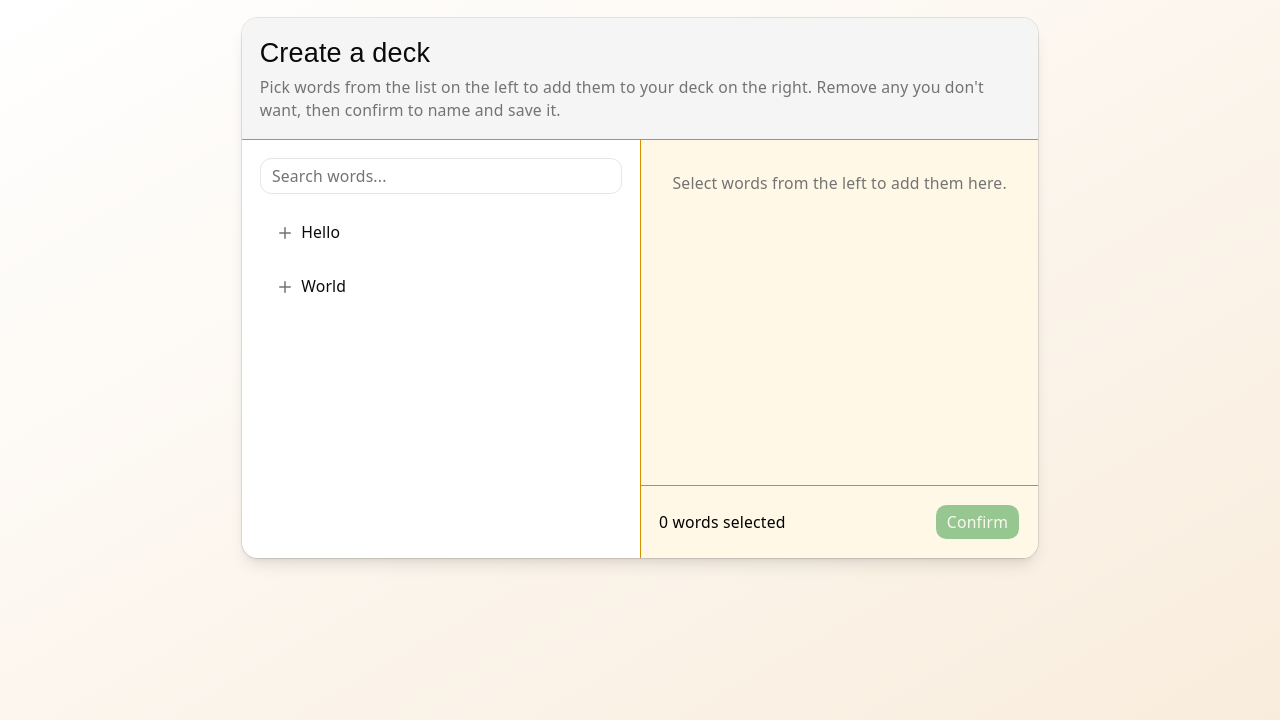
Test: CreateDeckPage › moves a word from the available list to the selected list on click
The image size is (1280, 720).
What coordinates should you click on to do the following:
click the button "Hello"
I would click on:
 (321, 232)
Its box is [264,208,618,258].
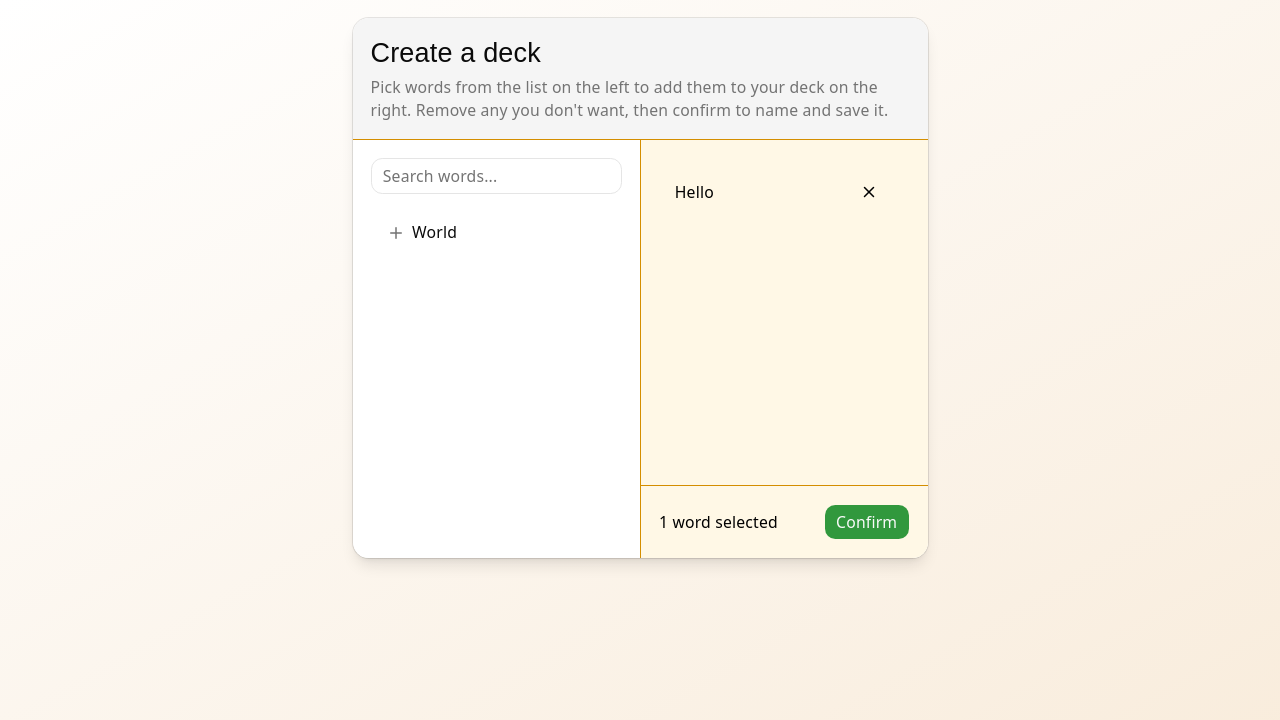
Result: the message reads "1 word selected" at [659,511,778,533]
